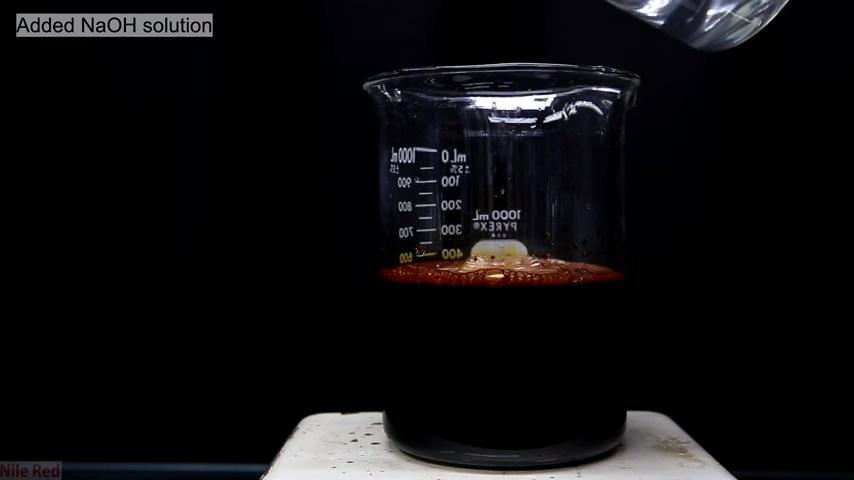Beaker: (350, 61, 651, 475)
